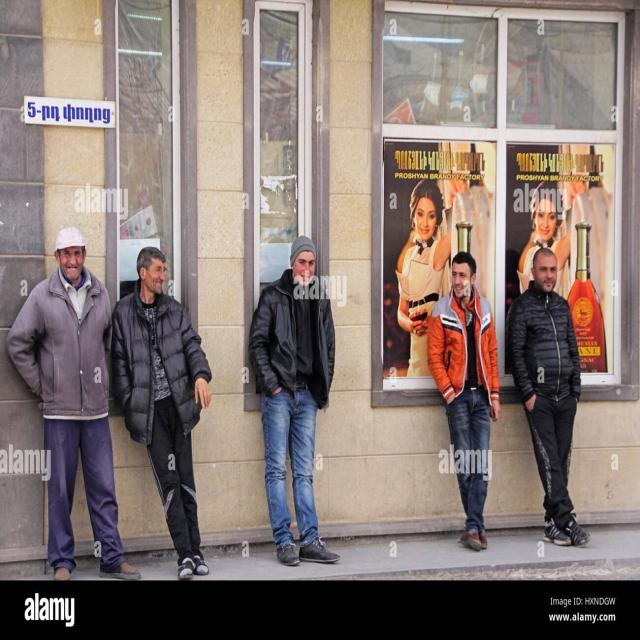human: (17, 221, 141, 582), (238, 223, 350, 569), (112, 236, 218, 589), (503, 250, 596, 553), (420, 246, 504, 552)
loitering: (28, 230, 142, 584), (247, 221, 349, 574), (111, 241, 213, 573), (403, 236, 506, 547), (506, 242, 608, 550)
